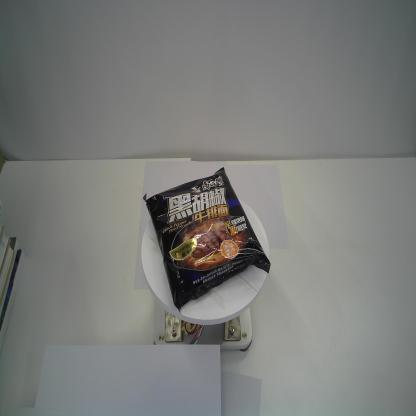Instant Noodles: (142, 164, 272, 314)
